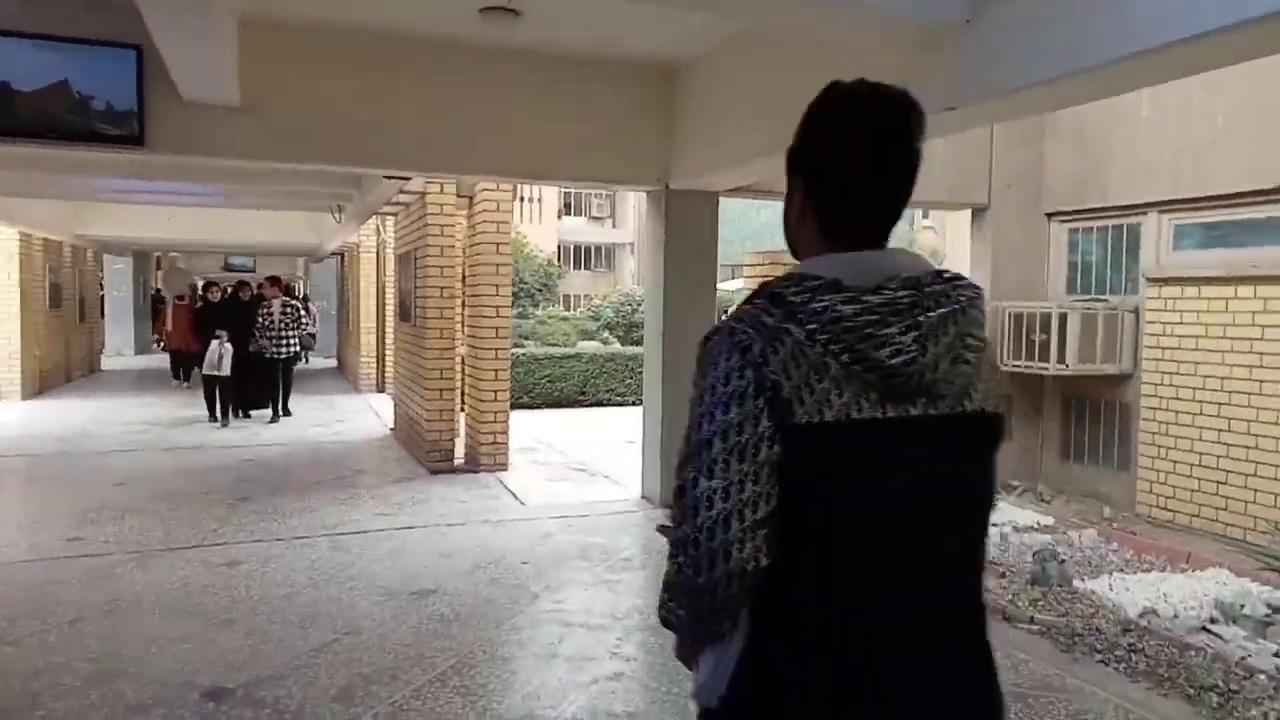person: (656, 76, 1007, 718), (186, 278, 242, 421), (252, 286, 306, 431), (150, 286, 166, 348)
tree: (509, 228, 644, 407), (509, 228, 567, 344), (585, 284, 643, 347), (530, 309, 578, 347)
